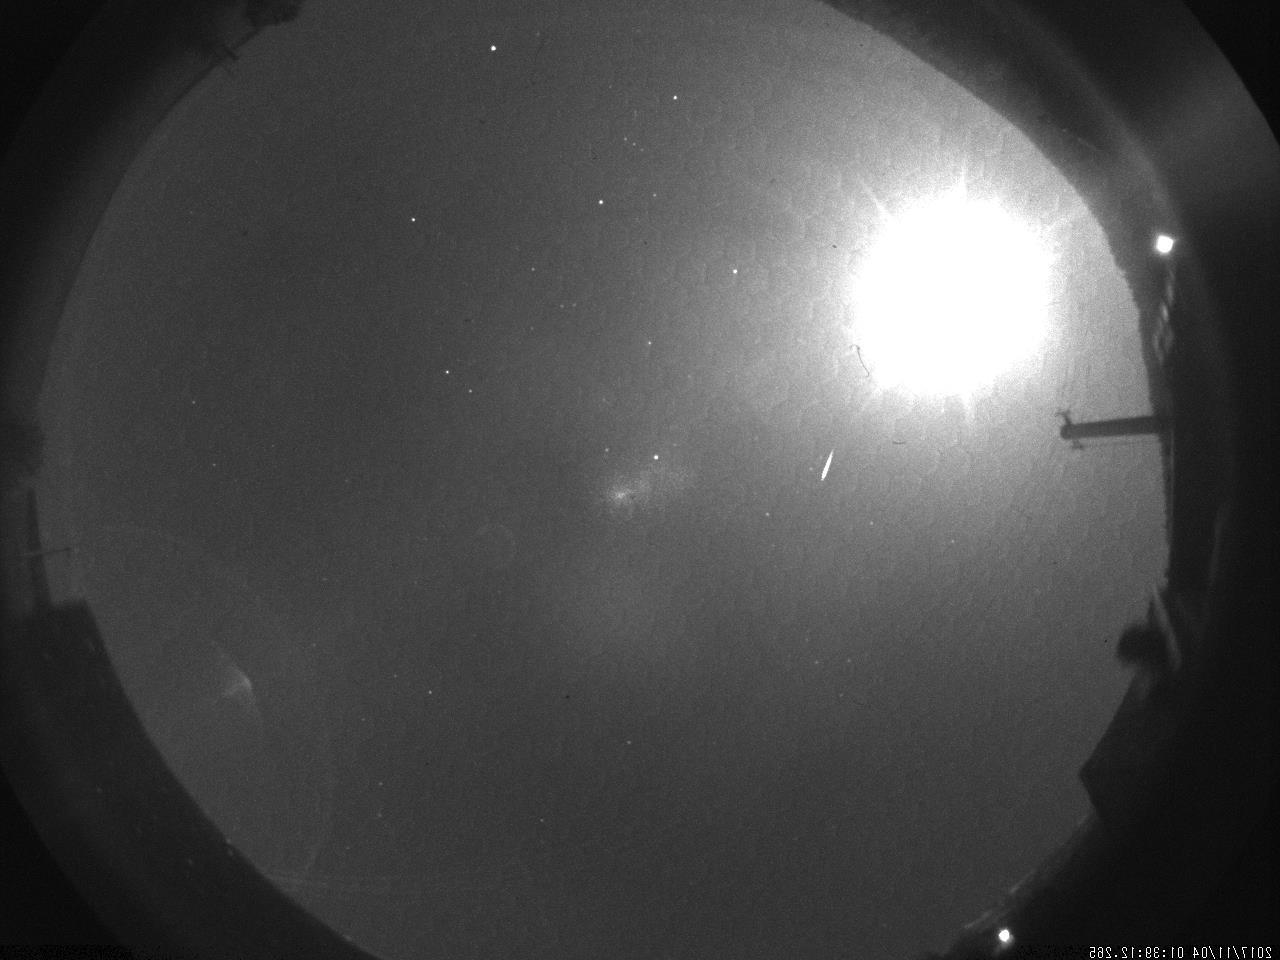meteor: (811, 440, 848, 498)
